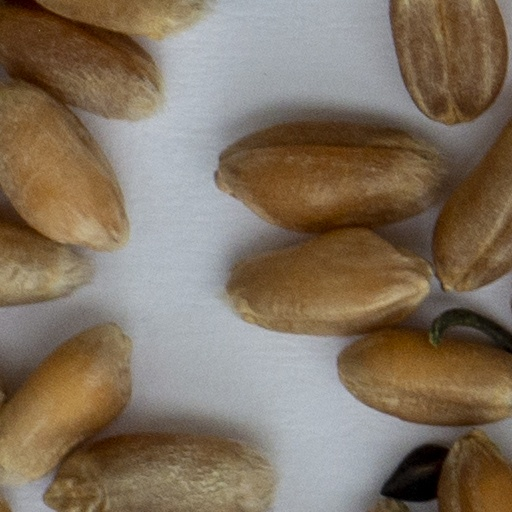Fallopia-Convolvulus-poly: (383, 447, 446, 501)
